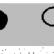correct: (0, 9, 14, 30)
